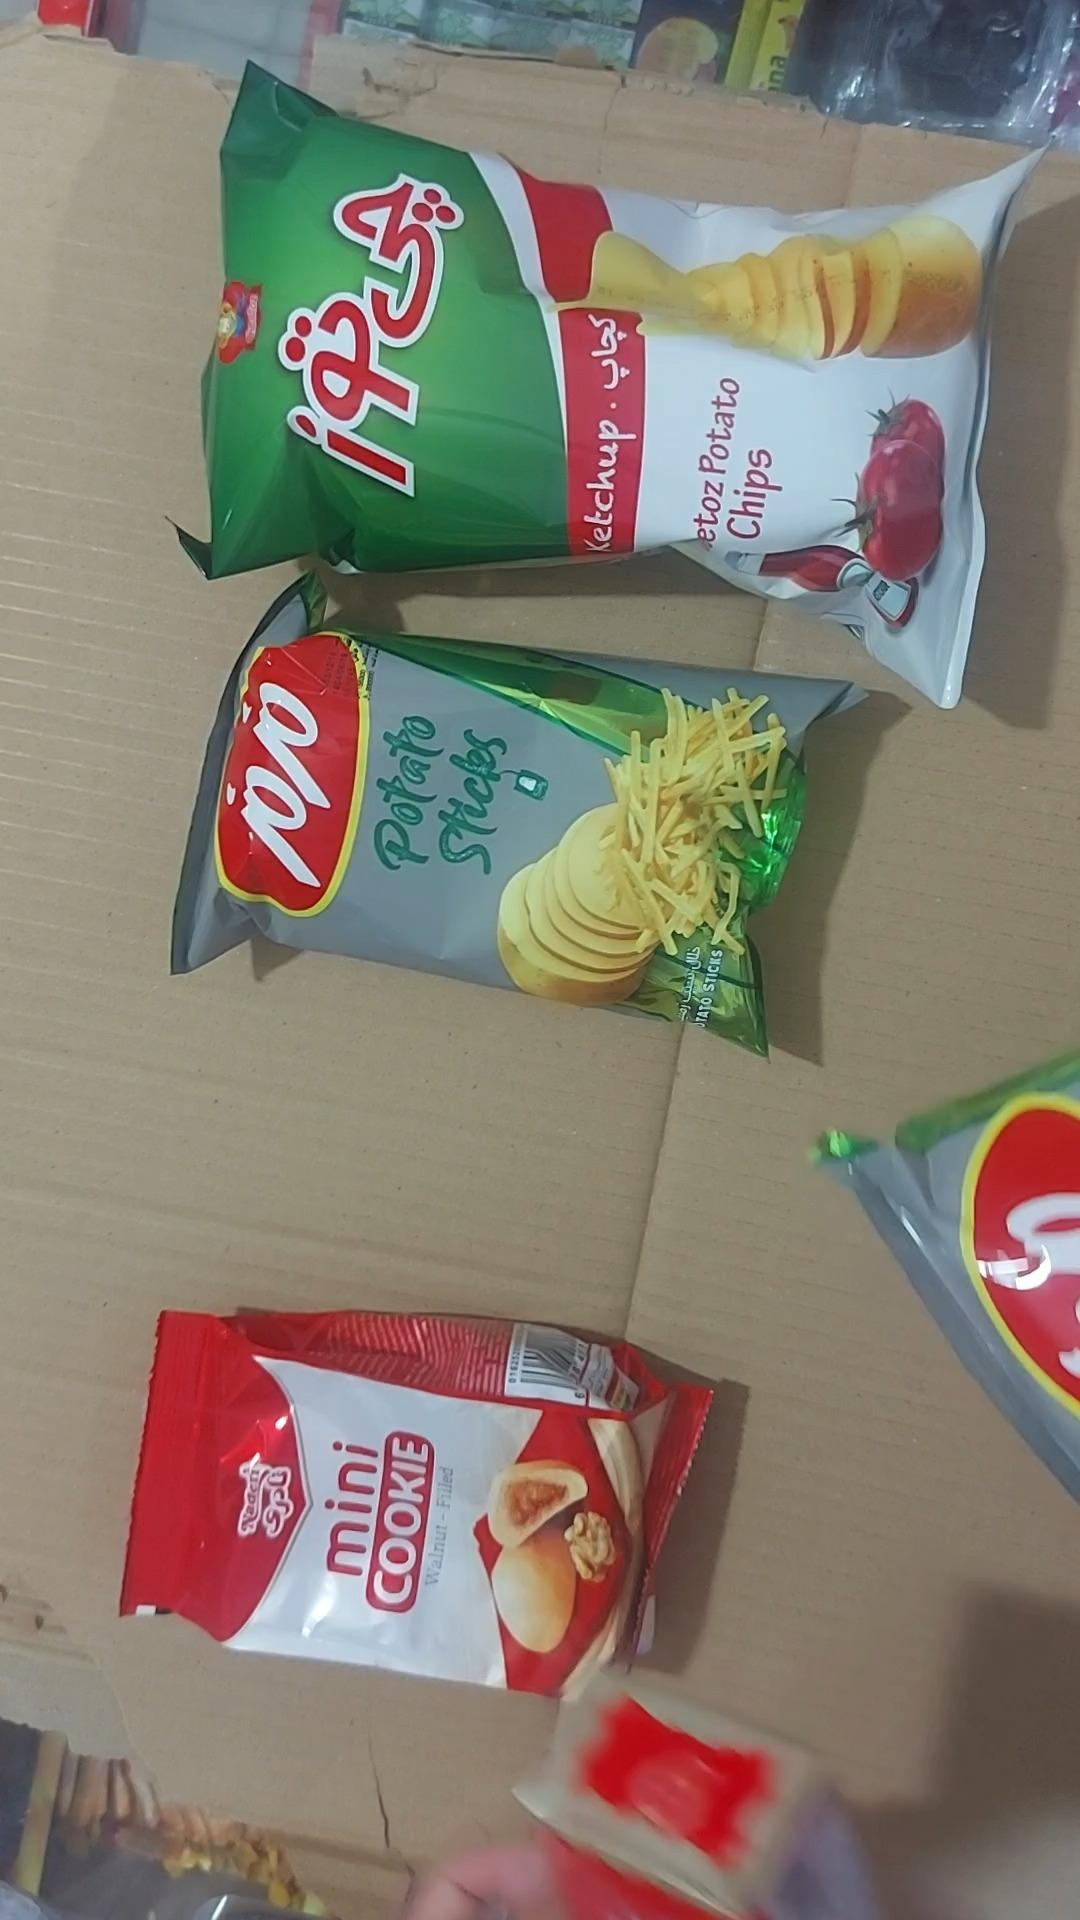Cheetoz ketchup chips: (160, 65, 1044, 713)
Maz Maz potato sticks: (171, 570, 873, 1060)
Naderi mini cookie: (117, 1309, 715, 1698)
